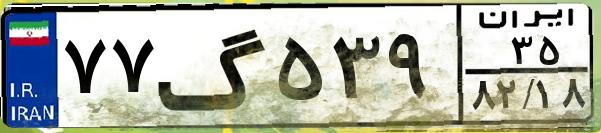1: (535, 70, 560, 125)
2: (495, 70, 520, 125)
3: (330, 28, 385, 110), (508, 27, 537, 80)
5: (270, 28, 330, 110), (537, 27, 568, 80)
7: (57, 26, 110, 100), (110, 28, 156, 98)
8: (560, 70, 590, 125), (470, 70, 495, 125)
9: (385, 28, 445, 110)
گ: (156, 12, 270, 120)
